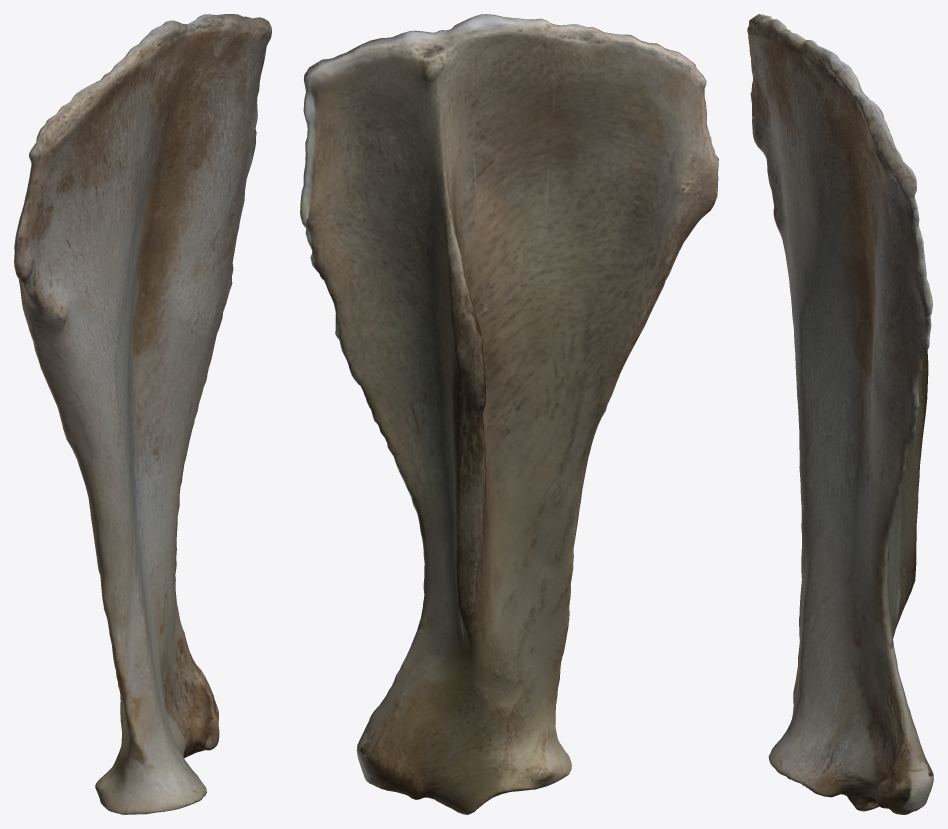
The model's file is Nova tentativa.glb.
3 renders of one model, left to right at view 1: azimuth 30°, elevation 25°; view 2: azimuth 150°, elevation 25°; view 3: azimuth 270°, elevation 25°, orthographic. The views are drawn at different scales.
Visible parts, largest first — view 1: 3DModel_LowPoly; view 2: 3DModel_LowPoly; view 3: 3DModel_LowPoly.
Boxes of the visible parts, x1,y1,x2,y2 form: 3DModel_LowPoly: (14,14,271,814); 3DModel_LowPoly: (300,14,718,814); 3DModel_LowPoly: (747,14,933,814).
Bounding box in the file's own units: 1.14 × 2.57 × 0.5814.
1 material, 1 textured.
